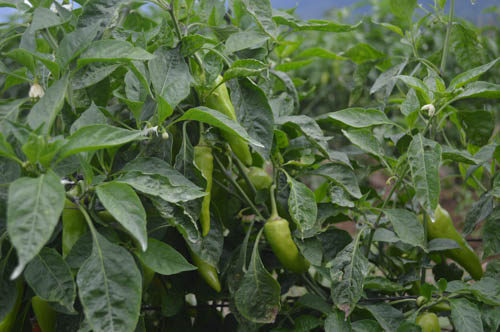ChiliPepper: (419, 205, 482, 279), (203, 74, 251, 163), (264, 220, 309, 272), (190, 145, 215, 236)
